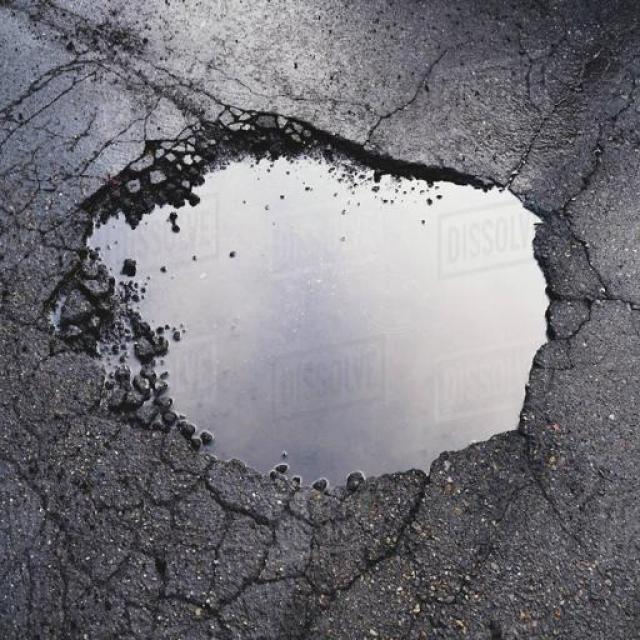puddle: (156, 174, 525, 455)
